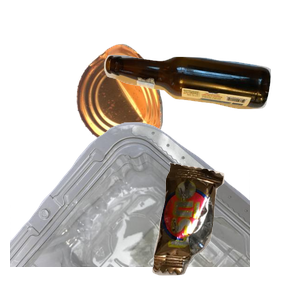glass: (101, 52, 300, 154)
metal: (74, 41, 229, 181)
plastic: (10, 120, 250, 300)
trash: (150, 160, 300, 300)
